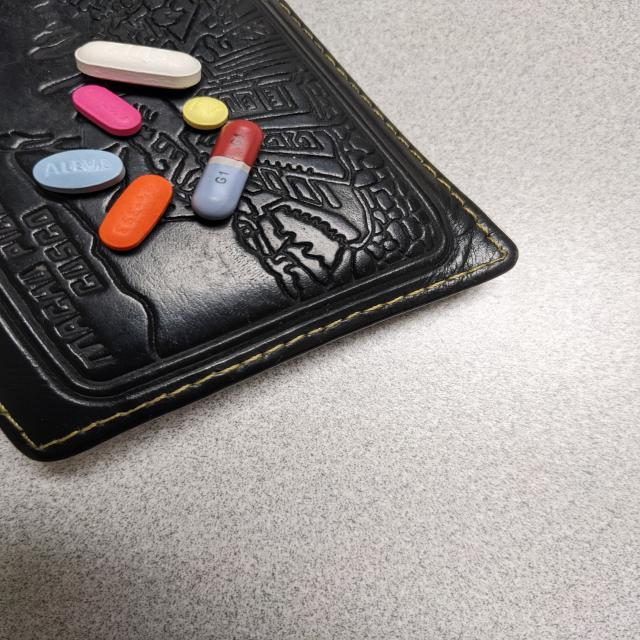non-organic waste: (189, 119, 265, 221), (73, 40, 203, 90), (96, 173, 174, 252), (31, 148, 128, 195), (70, 84, 144, 137), (182, 96, 230, 130)
